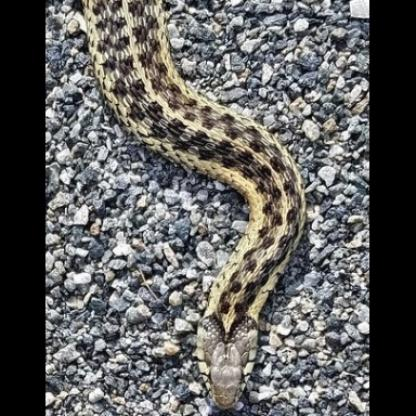Snake: (73, 0, 291, 416)
